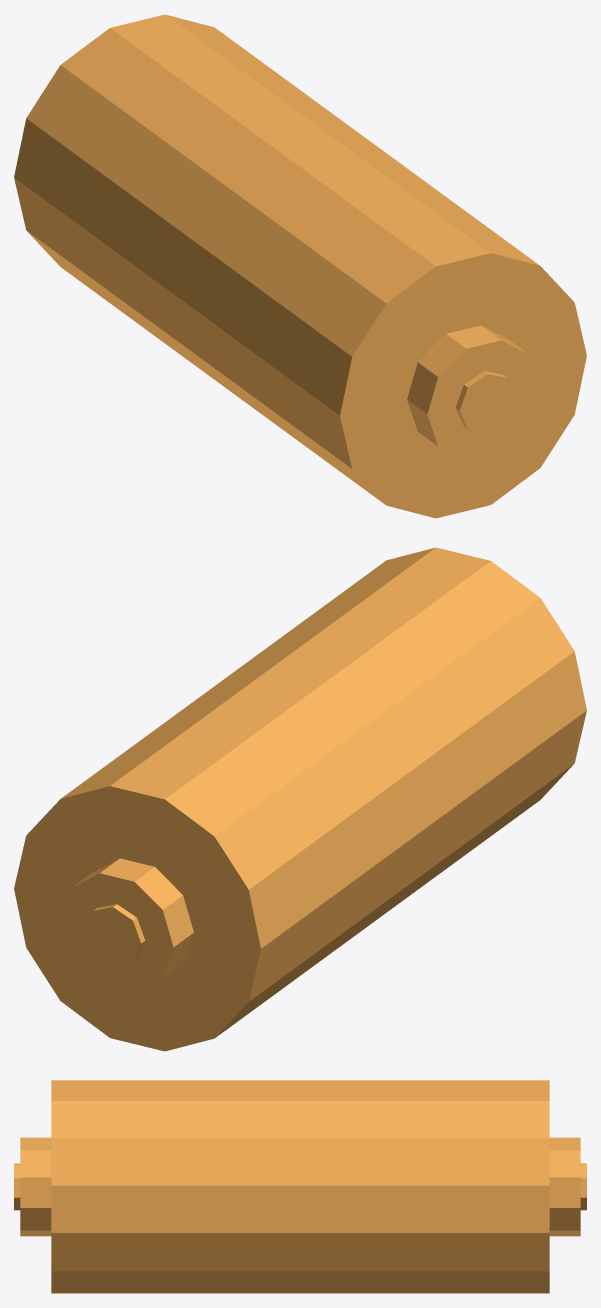
Rendered from silicone_roller.glb.
3 views of the same model, one above another, from view 1: azimuth 30°, elevation 25°; view 2: azimuth 150°, elevation 25°; view 3: azimuth 270°, elevation 25° (orthographic). The views are drawn at different scales.
Visible parts, largest first — view 1: RootNode; view 2: RootNode; view 3: RootNode.
Part boxes in pixels (left/top/right/bottom): RootNode: left=14, top=14, right=586, bottom=518; RootNode: left=14, top=547, right=586, bottom=1051; RootNode: left=14, top=1080, right=586, bottom=1293.
Bounding box in the file's own units: 0.035 × 0.0341 × 0.092.
